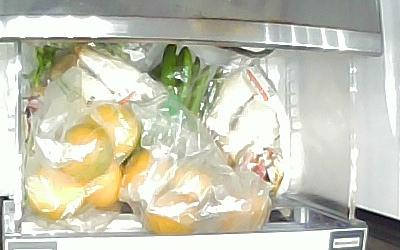tangerine_vinyl: (60, 122, 113, 182), (24, 168, 83, 221), (88, 103, 141, 159), (123, 148, 170, 206), (217, 189, 268, 233), (151, 188, 196, 235), (84, 160, 122, 211), (173, 166, 214, 207)
